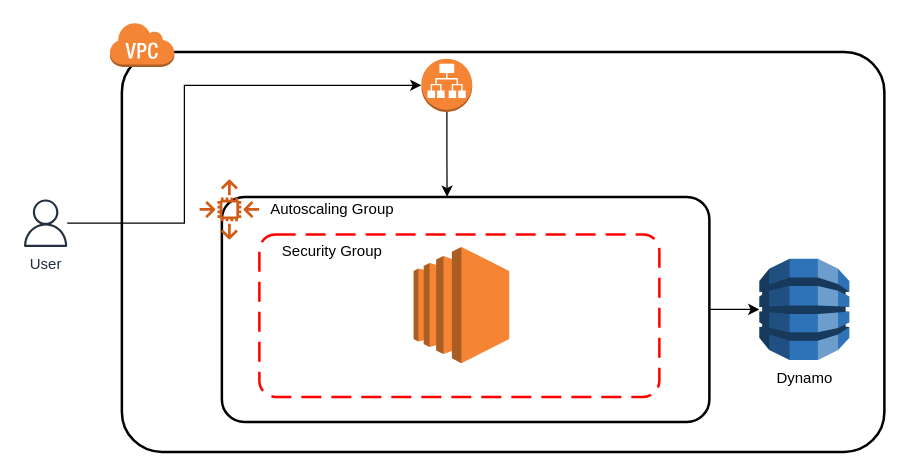
Some shapes in this 906 by 475 pixel diagram are drawn without their labels. Here are the shapes that lost their labels. From the top down, the box of each, then its label:
(420, 58, 472, 112): Load Balancer
(412, 246, 509, 363): EC2 Instances
